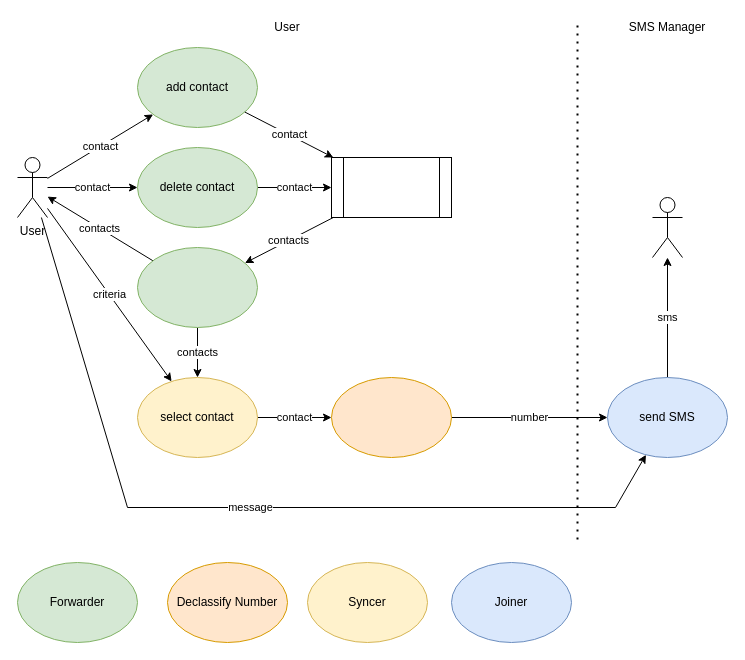
The diagram is 745 pixels wide and 660 high, and some of its shapes have lost their labels. Each missing label, with the box of its shape:
Contact Store: (330, 156, 452, 218)
extract number: (330, 376, 452, 458)
list contacts: (136, 246, 258, 328)
SMS Gateway: (652, 196, 682, 258)
